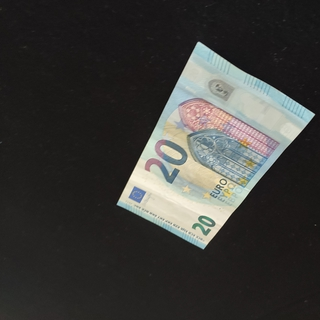20EUROFront: (115, 41, 315, 250)
